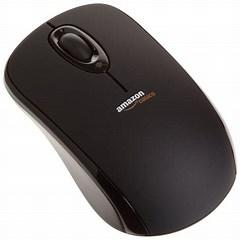computer mouse: (3, 3, 238, 237)
